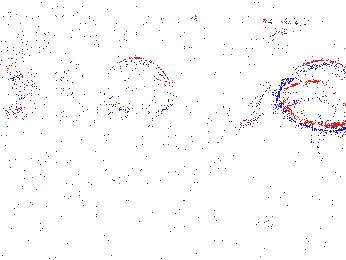moon jellyfish: (216, 38, 284, 132), (278, 58, 346, 130), (101, 57, 173, 114), (64, 43, 114, 116), (1, 49, 37, 117)
